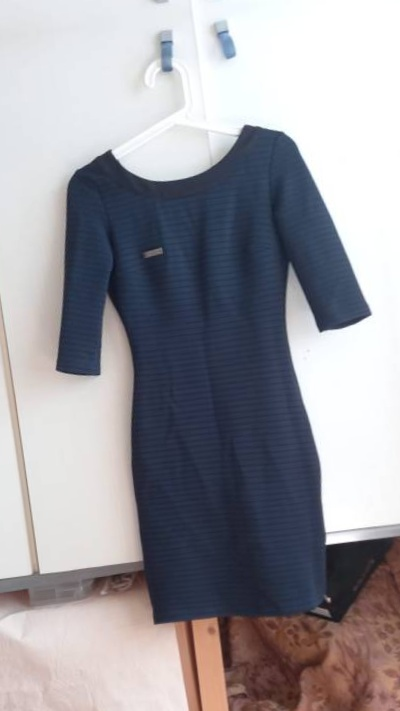Dress: (7, 84, 400, 696), (383, 36, 400, 648)
